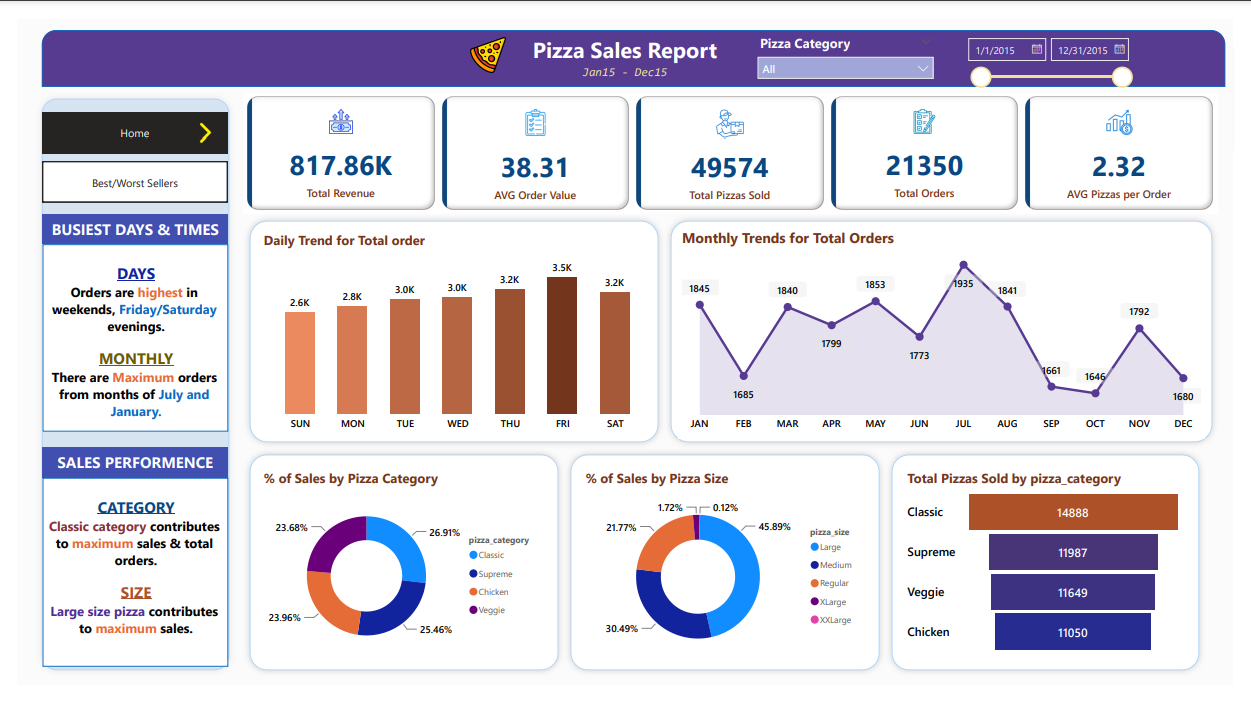

Layout of this report page (visuals, bound fields, positions):
{"tool":"powerbi","page":{"name":"Home","canvas":[1500,820],"ordinal":0},"visuals":[{"type":"cardVisual","fields":{"Data":["pizza_sales (2).Total Revenue","pizza_sales (2).AVG Order Value","pizza_sales (2).Total Pizzas Sold","pizza_sales (2).Total Orders","pizza_sales (2).AVG Pizzas per Order"]},"box":[278.6,90,1202.9,148.6],"z":0},{"type":"shape","box":[30,12.9,1460,70],"z":1000},{"type":"textbox","box":[595.7,12.9,307.1,45.7],"z":2000},{"type":"textbox","box":[595.7,48.6,307.1,34.3],"z":3000},{"type":"image","box":[550,16.7,60,53.3],"z":4000},{"type":"shape","box":[278.8,238.8,518.8,288.8],"z":5000},{"type":"columnChart","title":"Daily Trend for Total order","fields":{"Category":["pizza_sales.Order Day"],"Y":["pizza_sales.Total Orders"]},"box":[298.8,260,488.8,255],"z":6000},{"type":"shape","box":[797.5,238.8,683.8,288.8],"z":7000},{"type":"areaChart","title":"Monthly Trends for Total Orders","fields":{"Category":["pizza_sales.Order Month"],"Y":["pizza_sales.Total Orders"]},"box":[815,256.2,650,258.8],"z":8000},{"type":"shape","box":[278.8,527.5,396.2,281.2],"z":9000},{"type":"shape","box":[675,527.5,396.2,281.2],"z":10000},{"type":"shape","box":[1071.2,527.5,393.8,281.2],"z":11000},{"type":"donutChart","title":"% of Sales by Pizza Category","fields":{"Category":["pizza_sales.pizza_category"],"Y":["pizza_sales.Total Revenue"]},"box":[298.8,552.5,353.8,243.8],"z":12000},{"type":"donutChart","title":"% of Sales by Pizza Size","fields":{"Y":["pizza_sales.Total Revenue"],"Category":["pizza_sales.pizza_size"]},"box":[696.2,552.5,353.8,245],"z":13000},{"type":"funnel","fields":{"Category":["pizza_sales.pizza_category"],"Y":["pizza_sales.Total Pizzas Sold"]},"box":[1092.5,552.5,348.8,233.8],"z":14000},{"type":"shape","box":[22.9,90,245.7,718.6],"z":15000},{"type":"textbox","box":[31.4,238.6,228.6,37.1],"z":16000},{"type":"textbox","box":[31.4,275.7,228.6,231.4],"z":17000},{"type":"textbox","box":[31.4,527.1,228.6,37.1],"z":18000},{"type":"textbox","box":[31.4,564.3,228.6,232.9],"z":19000},{"type":"slicer","fields":{"Values":["pizza_sales.pizza_category"]},"box":[902.9,12.9,237.1,70],"z":20000},{"type":"slicer","fields":{"Values":["pizza_sales.order_date"]},"box":[1160,12.9,224.3,77.1],"z":21000},{"type":"pageNavigator","box":[31.4,114.3,228.6,50],"z":22000},{"type":"pageNavigator","box":[31.4,174.3,228.6,50],"z":23000},{"type":"image","box":[204.3,114.3,55.7,50],"z":23001}]}

Visuals, with their boxes in screenshot pixels (x1, y1, x2, y2), scaled from the page's 1500x820 canvas onto the 1251x703 screenshot:
cardVisual - pizza_sales (2).Total Revenue x pizza_sales (2).AVG Order Value: 232:77:1236:205
shape: 25:11:1243:71
textbox: 497:11:753:50
textbox: 497:42:753:71
image: 459:14:509:60
shape: 233:205:665:452
"Daily Trend for Total order" columnChart: 249:223:657:442
shape: 665:205:1235:452
"Monthly Trends for Total Orders" areaChart: 680:220:1222:442
shape: 233:452:563:693
shape: 563:452:893:693
shape: 893:452:1222:693
"% of Sales by Pizza Category" donutChart: 249:474:544:683
"% of Sales by Pizza Size" donutChart: 581:474:876:684
funnel - pizza_sales.pizza_category x pizza_sales.Total Pizzas Sold: 911:474:1202:674
shape: 19:77:224:693
textbox: 26:205:217:236
textbox: 26:236:217:435
textbox: 26:452:217:484
textbox: 26:484:217:683
slicer - pizza_sales.pizza_category: 753:11:951:71
slicer - pizza_sales.order_date: 967:11:1155:77
pageNavigator: 26:98:217:141
pageNavigator: 26:149:217:192
image: 170:98:217:141
